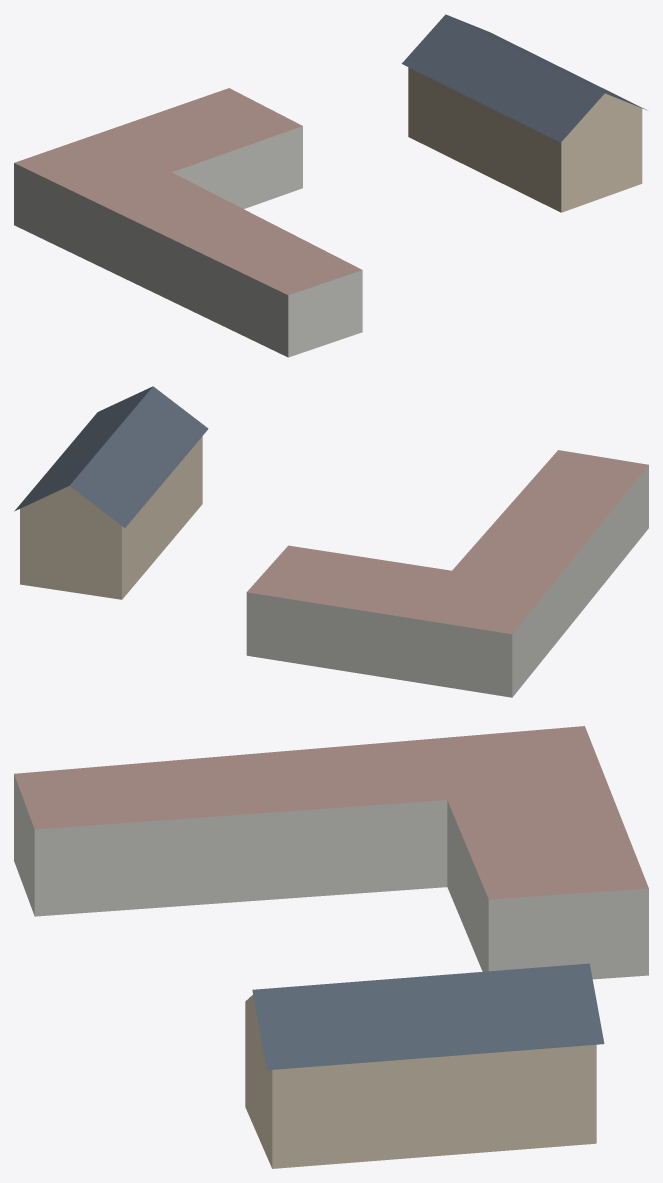
3 views of the same model, one above another, from view 1: azimuth 30°, elevation 25°; view 2: azimuth 150°, elevation 25°; view 3: azimuth 270°, elevation 25° (orthographic). The views are drawn at different scales.
Parts seen in each view (by area): view 1: tuile; view 2: tuile; view 3: tuile.
Boxes of the visible parts, x1,y1,x2,y2 form: tuile: (14, 14, 647, 357); tuile: (14, 386, 648, 697); tuile: (14, 726, 648, 1168).
Bounding box in the file's own units: 44.64 × 8.71 × 33.7.
